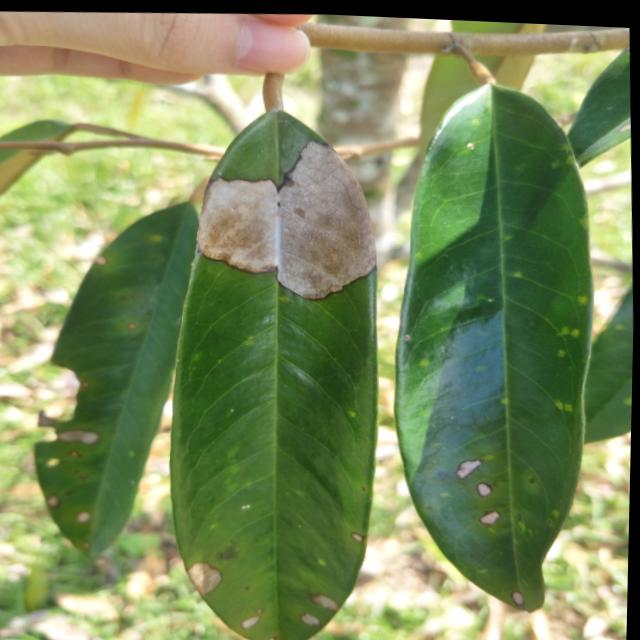Leaf Blight: (191, 123, 389, 313)
Leaf Spot: (186, 528, 227, 599), (306, 581, 349, 620), (473, 487, 507, 526), (470, 473, 508, 500), (460, 440, 488, 476)
